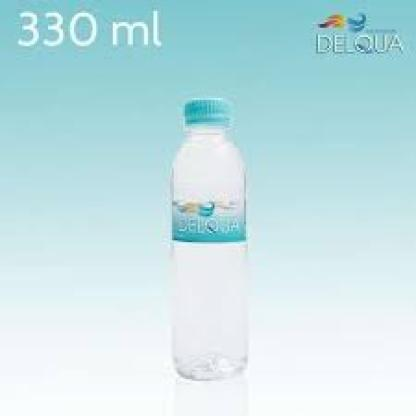Glass Bottle: (163, 97, 255, 388)
